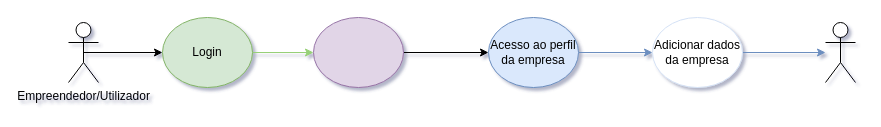
This 881x127 diagram has some shape labels left out. Each missing label, with the centre of its shape:
Acesso a conta: [358,52]
SGBD: [840,52]
